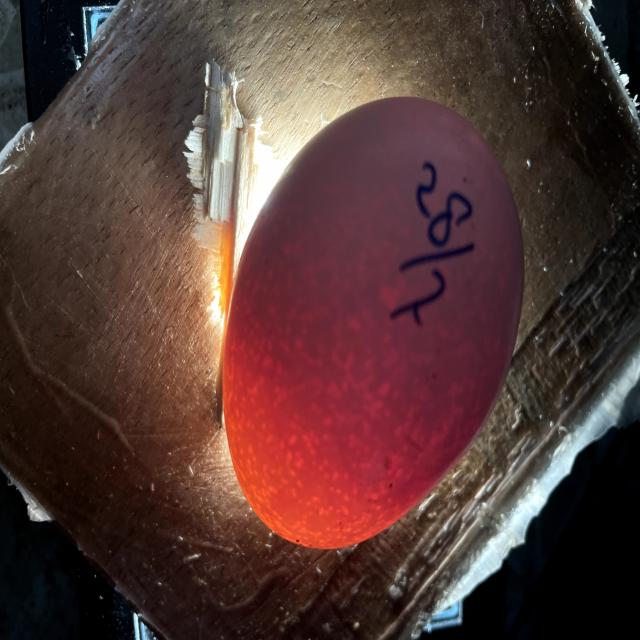fertile: (223, 97, 524, 548)
